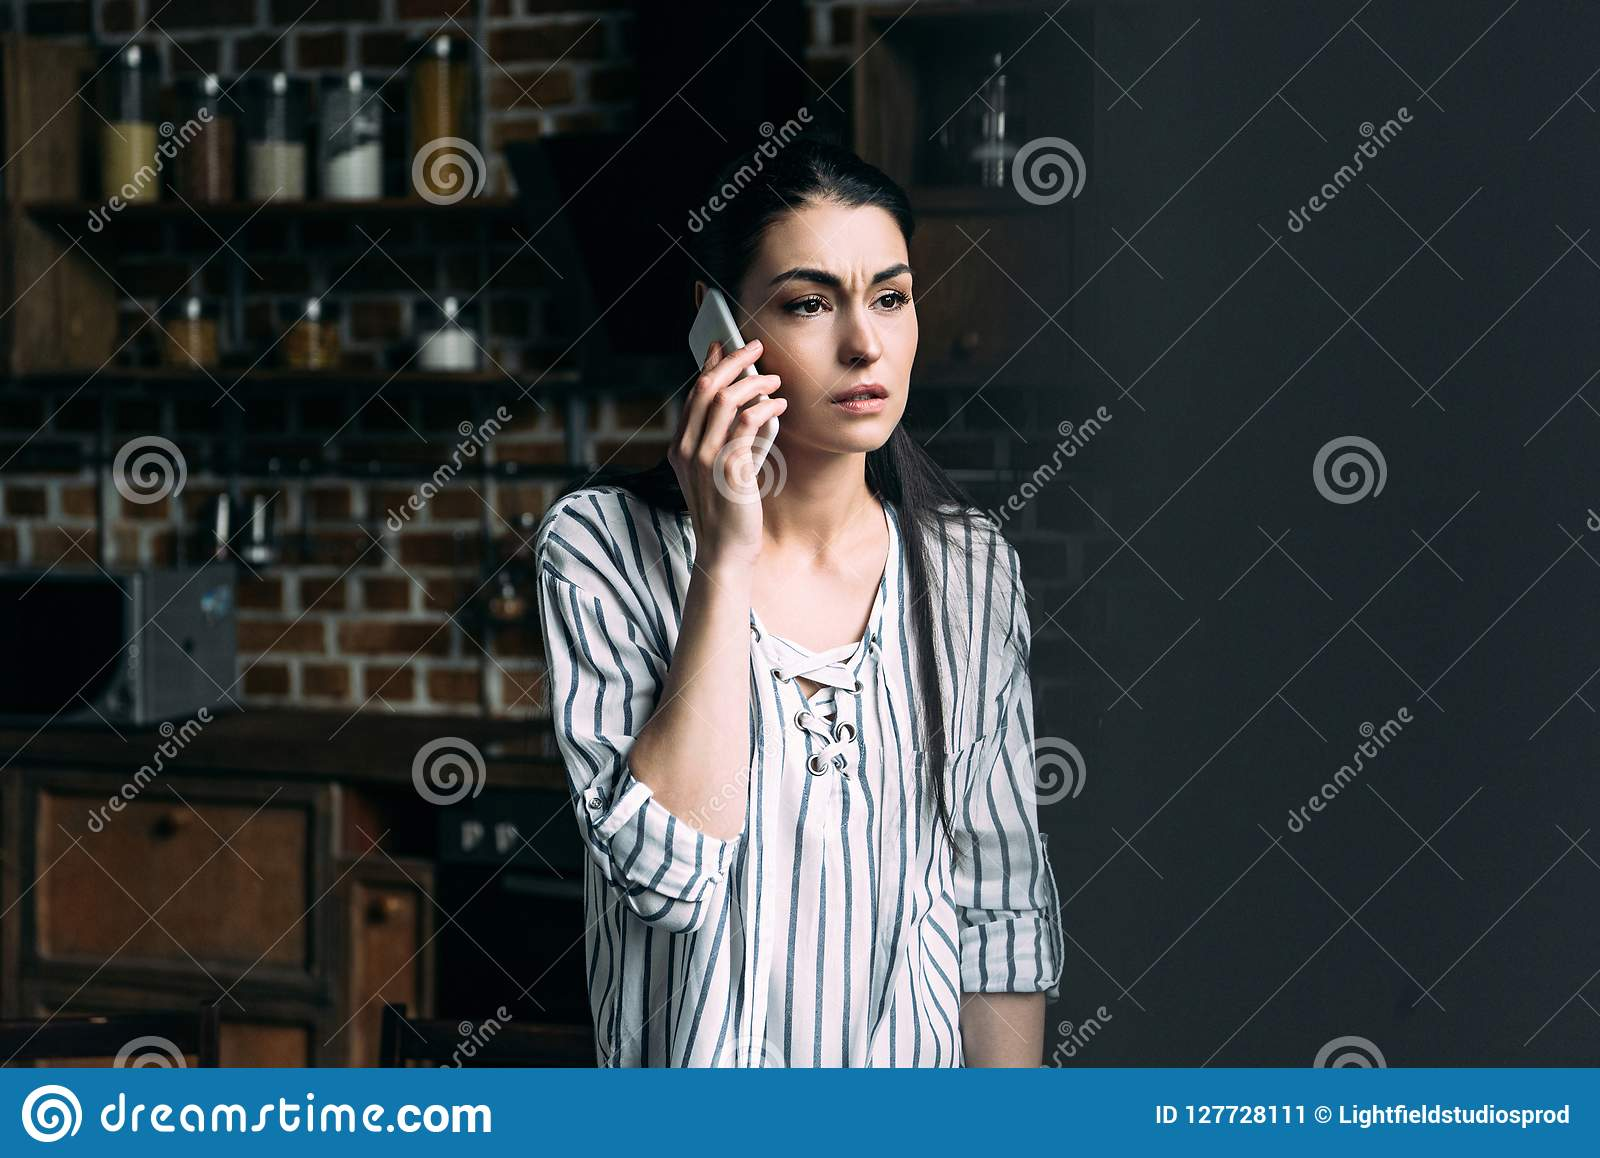phone: (684, 282, 785, 476)
talk: (665, 253, 925, 595)
